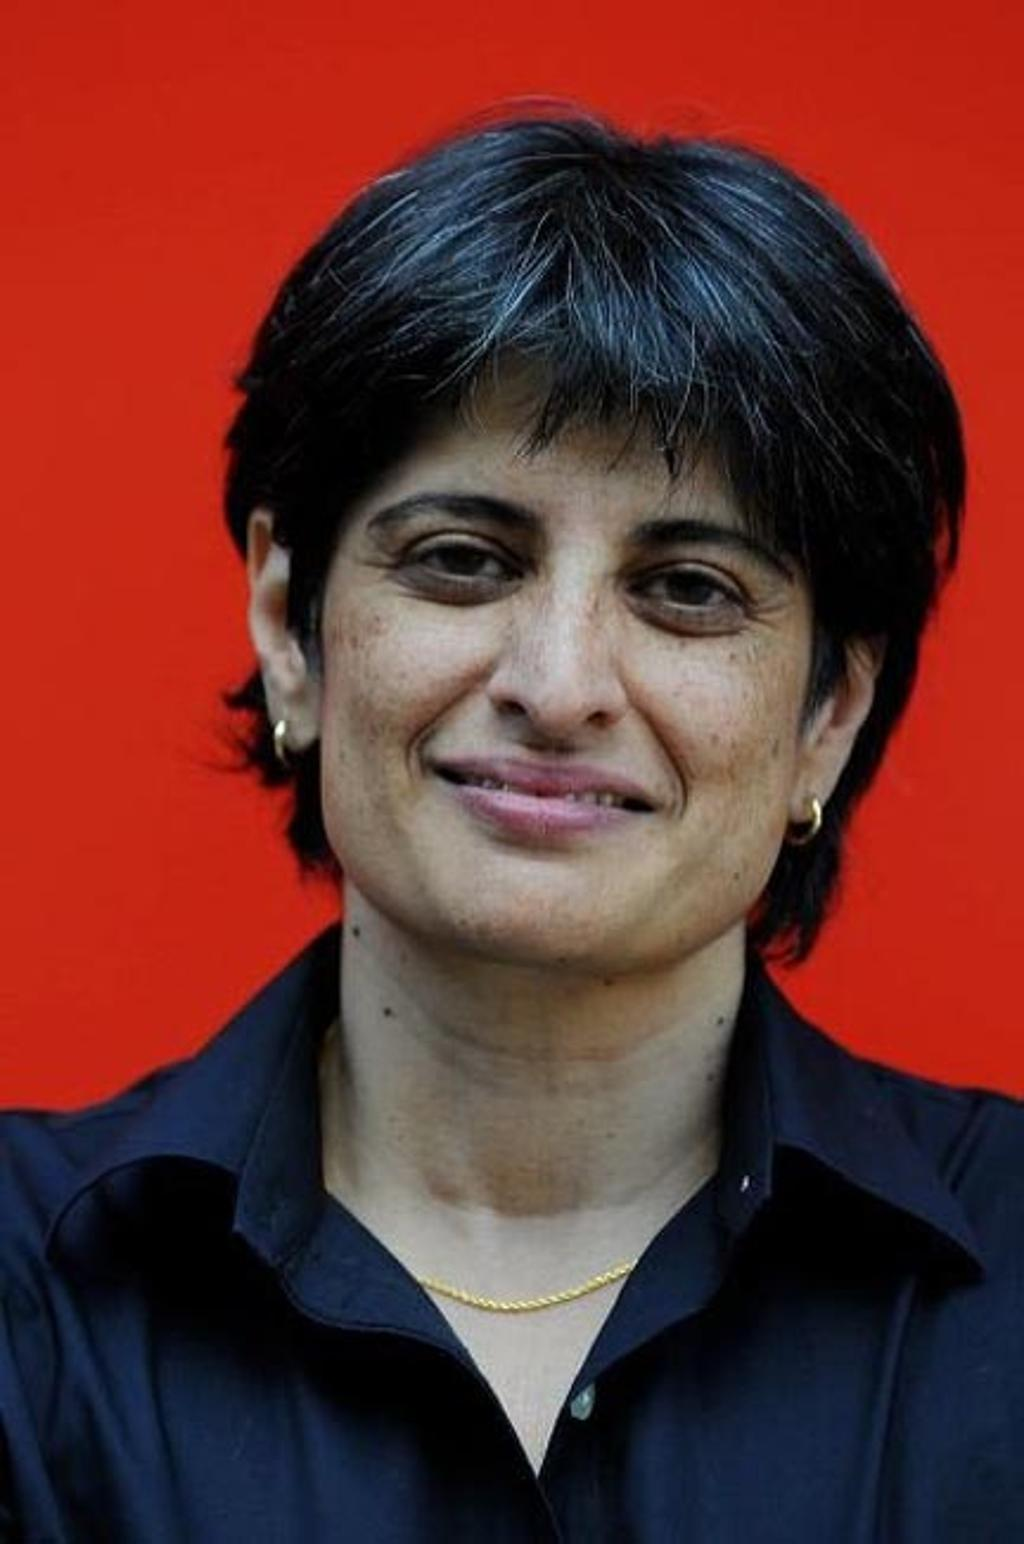face: (326, 341, 814, 946)
